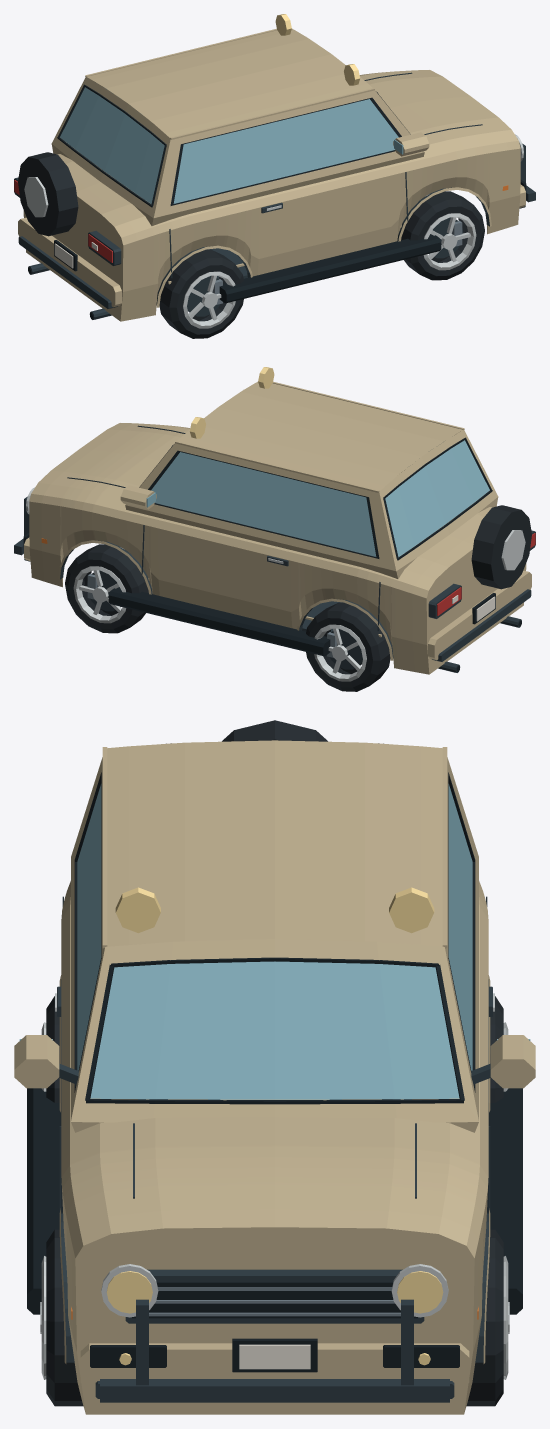
Rendered from b03_two_door_trail_suv.glb.
3 renders of one model, top to bottom at view 1: azimuth 30°, elevation 25°; view 2: azimuth 150°, elevation 25°; view 3: azimuth 270°, elevation 25°, orthographic. The views are drawn at different scales.
Visible parts, largest first — view 1: b03_two_door_trail_suv; view 2: b03_two_door_trail_suv; view 3: b03_two_door_trail_suv.
Part boxes in pixels (x1=…): b03_two_door_trail_suv: x1=14, y1=14, x2=535, y2=338; b03_two_door_trail_suv: x1=14, y1=367, x2=535, y2=691; b03_two_door_trail_suv: x1=14, y1=720, x2=535, y2=1414.
Size of the model in its own units: 4.45 by 2.03 by 2.2.
